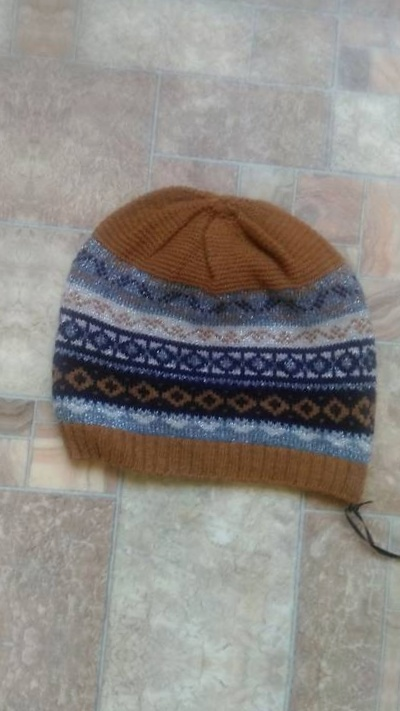Hat: (20, 137, 400, 560), (0, 96, 11, 518)
